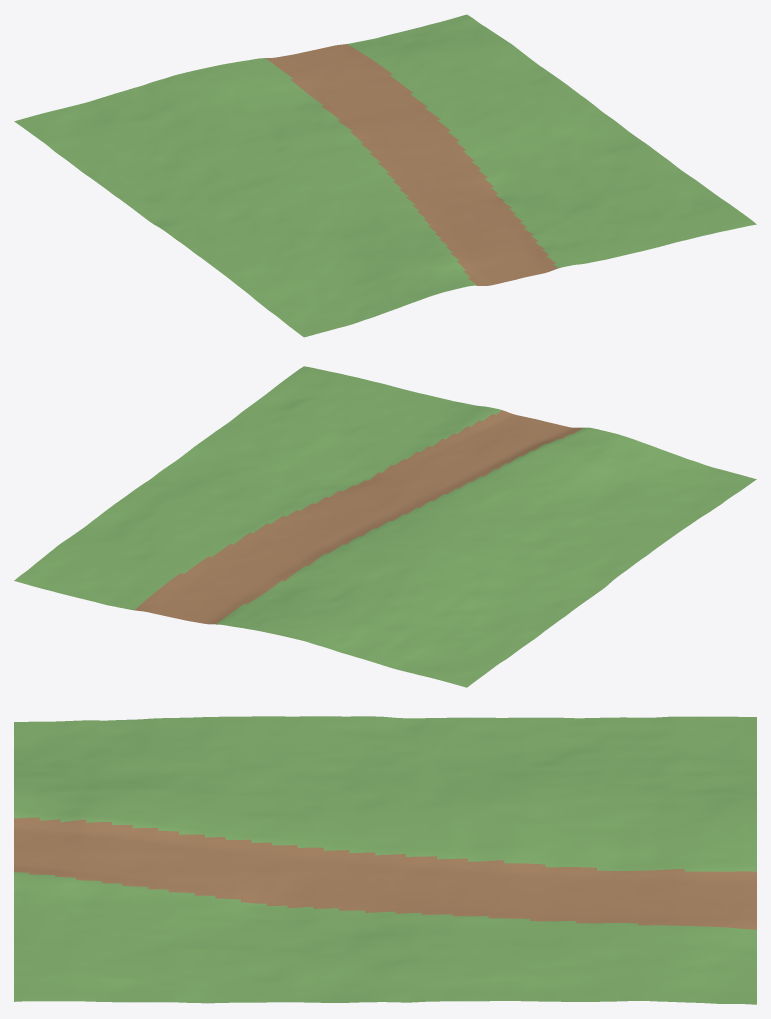
The model's file is cedar_hollow_heightmesh_0_neg4.glb.
3 views of the same model, one above another, from view 1: azimuth 30°, elevation 25°; view 2: azimuth 150°, elevation 25°; view 3: azimuth 270°, elevation 25° (orthographic). The views are drawn at different scales.
Parts seen in each view (by area): view 1: cedar_hollow_heightmesh_0_neg4; view 2: cedar_hollow_heightmesh_0_neg4; view 3: cedar_hollow_heightmesh_0_neg4.
Part boxes in pixels (box(x1,y1,x2,y2)): cedar_hollow_heightmesh_0_neg4: box(14, 14, 756, 337); cedar_hollow_heightmesh_0_neg4: box(14, 366, 756, 687); cedar_hollow_heightmesh_0_neg4: box(14, 716, 756, 1004).
Bounding box in the file's own units: 11 × 0.3219 × 12.2.
